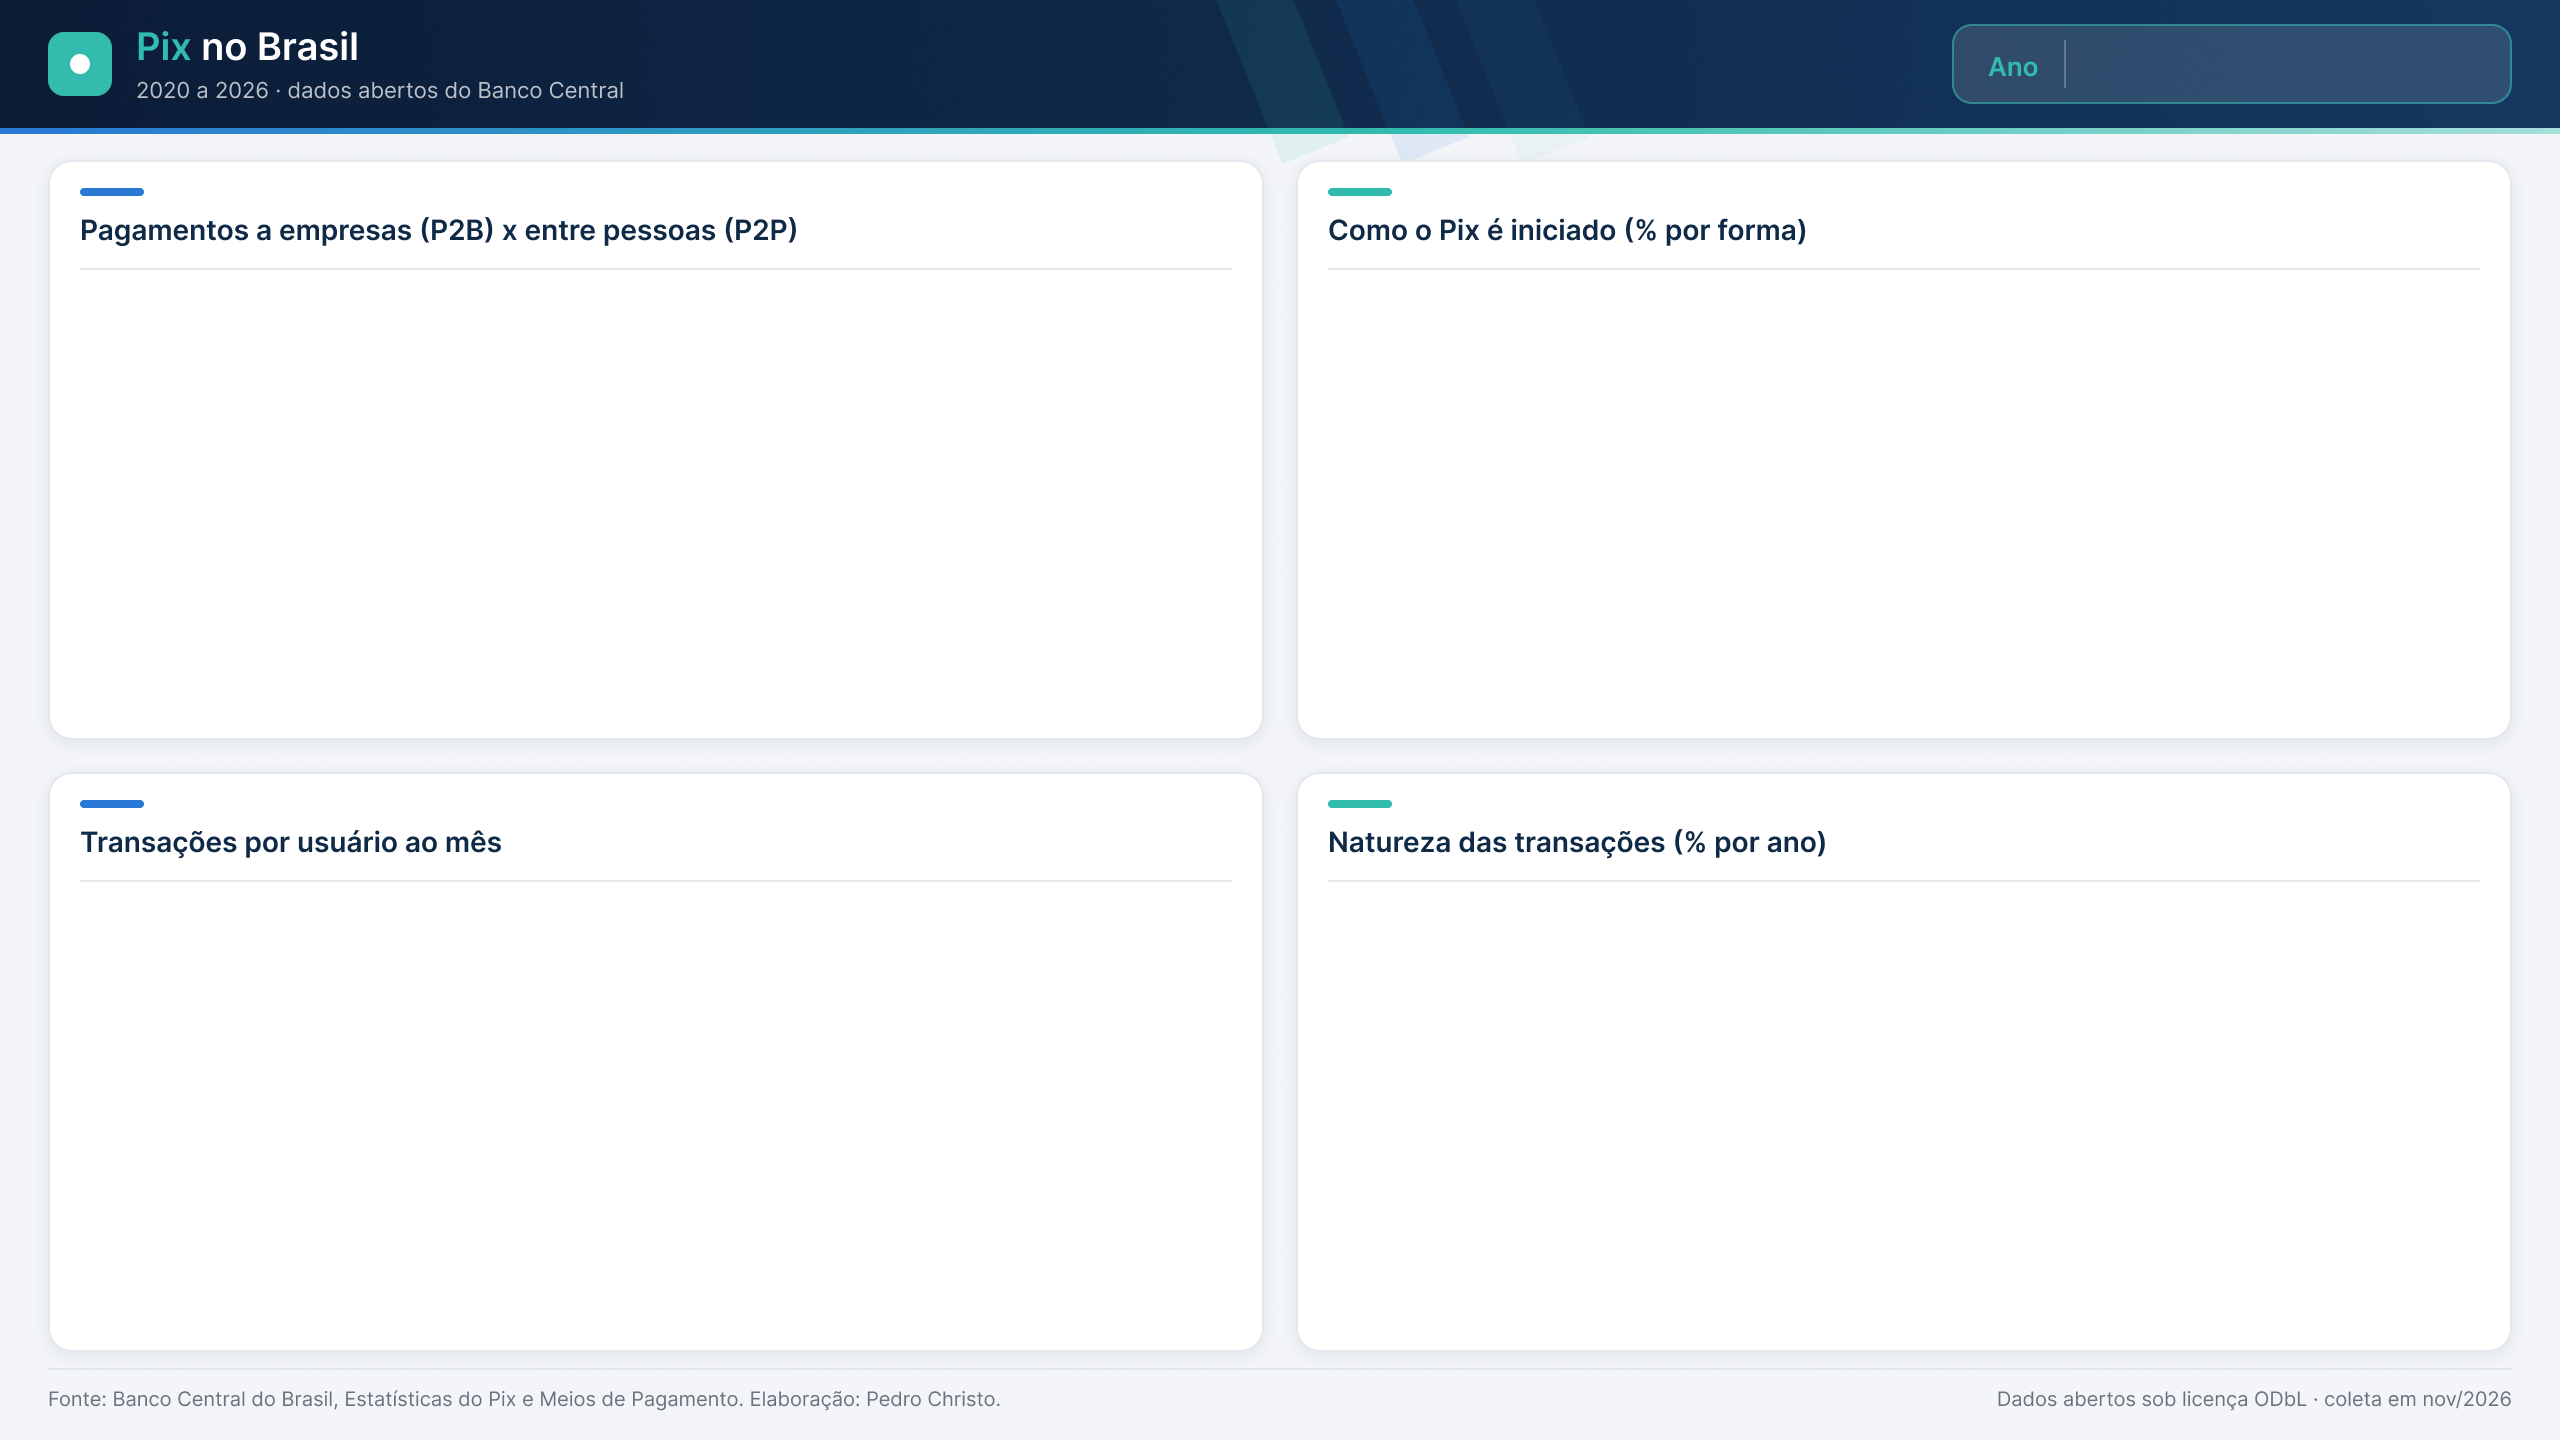

The page's visual inventory and layout, read from the dashboard file:
{"tool":"powerbi","page":{"name":"Como o Pix é usado","canvas":[1920,1080],"ordinal":1},"visuals":[{"type":"lineChart","fields":{"Category":["dCalendario.Ano"],"Y":["_Medidas.% P2P","_Medidas.% P2B"]},"box":[41.7,182.5,880,357.5],"z":0},{"type":"hundredPercentStackedColumnChart","fields":{"Category":["dCalendario.Ano"],"Series":["dFormaIniciacao.Forma"],"Y":["_Medidas.Transações por forma"]},"box":[980,182.5,897.5,357.5],"z":1000},{"type":"lineChart","fields":{"Category":["dCalendario.Ano"],"Y":["_Medidas.Transações por usuário (mês)"]},"box":[41.7,646.7,893.3,355],"z":2000},{"type":"pivotTable","fields":{"Columns":["dCalendario.Ano"],"Rows":["dNatureza.NaturezaNome"],"Values":["_Medidas.% das transações"]},"box":[980,646,898,356],"z":3000},{"type":"slicer","fields":{"Values":["dCalendario.Ano"]},"box":[1572.5,22.5,282.5,42.5],"z":5000}]}

Visuals, with their boxes in screenshot pixels (x1, y1, x2, y2), scaled from the page's 1920x1080 canvas onto the 2560x1440 screenshot:
lineChart - dCalendario.Ano x _Medidas.% P2P: [56, 243, 1229, 720]
hundredPercentStackedColumnChart - dCalendario.Ano x dFormaIniciacao.Forma: [1307, 243, 2503, 720]
lineChart - dCalendario.Ano x _Medidas.Transações por usuário (mês): [56, 862, 1247, 1336]
pivotTable - dCalendario.Ano x dNatureza.NaturezaNome: [1307, 861, 2504, 1336]
slicer - dCalendario.Ano: [2097, 30, 2473, 87]
